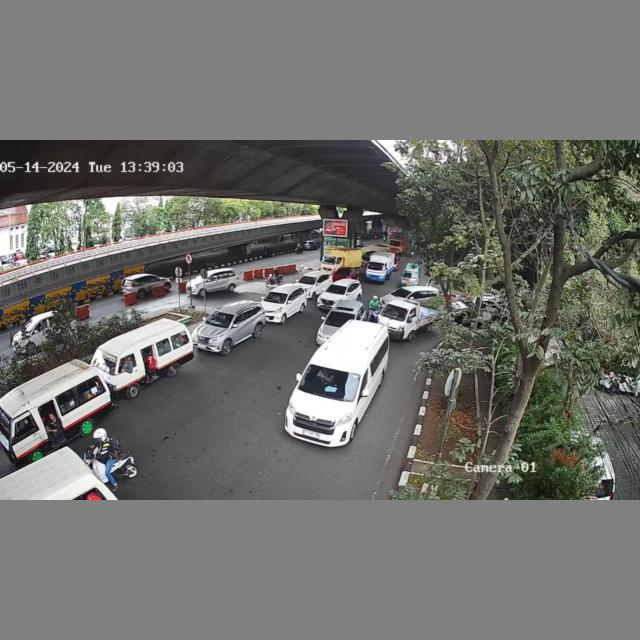windshield: (298, 364, 360, 400), (88, 351, 121, 373), (380, 304, 412, 325), (204, 311, 235, 327), (326, 310, 355, 326), (264, 291, 287, 305), (325, 283, 347, 296)
